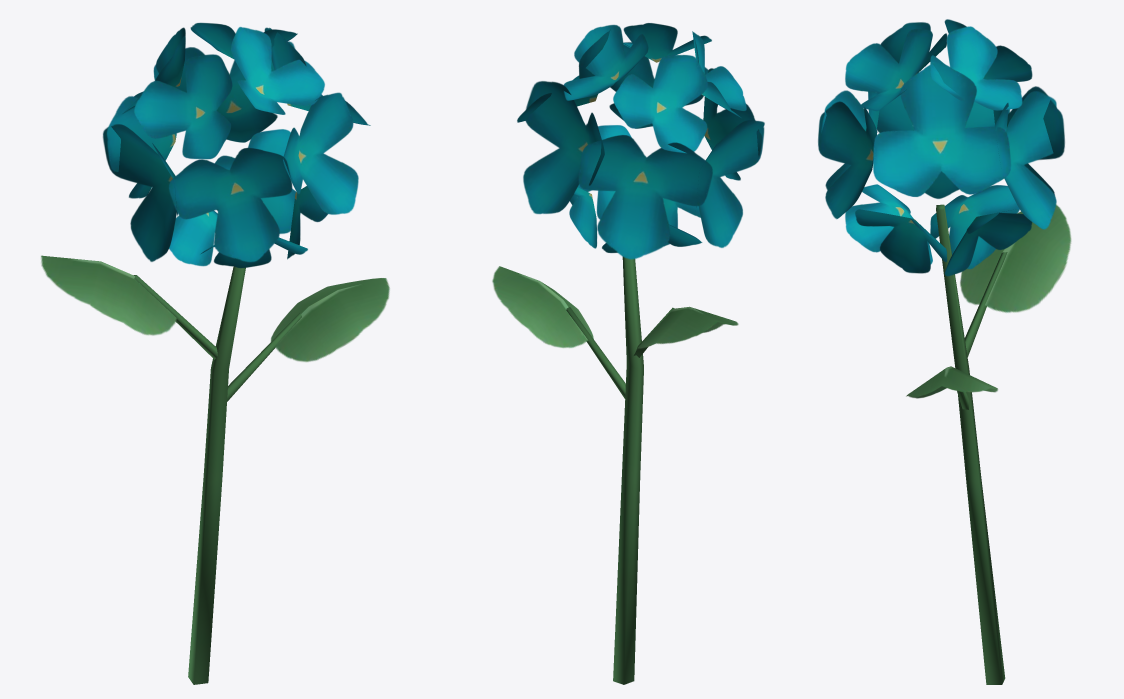
The model's file is Flower_1.glb.
The picture shows the model from 3 angles, left to right: view 1: azimuth 30°, elevation 25°; view 2: azimuth 150°, elevation 25°; view 3: azimuth 270°, elevation 25°; orthographic projection. The views are drawn at different scales.
Parts seen in each view (by area): view 1: Flower_1; view 2: Flower_1; view 3: Flower_1.
Part boxes in pixels (left/top/right/bottom): Flower_1: left=41, top=22, right=389, bottom=684; Flower_1: left=492, top=23, right=764, bottom=684; Flower_1: left=818, top=19, right=1071, bottom=684.
Bounding box in the file's own units: 0.2677 × 0.4894 × 0.2044.
Materials: 1 (1 with a texture image).
